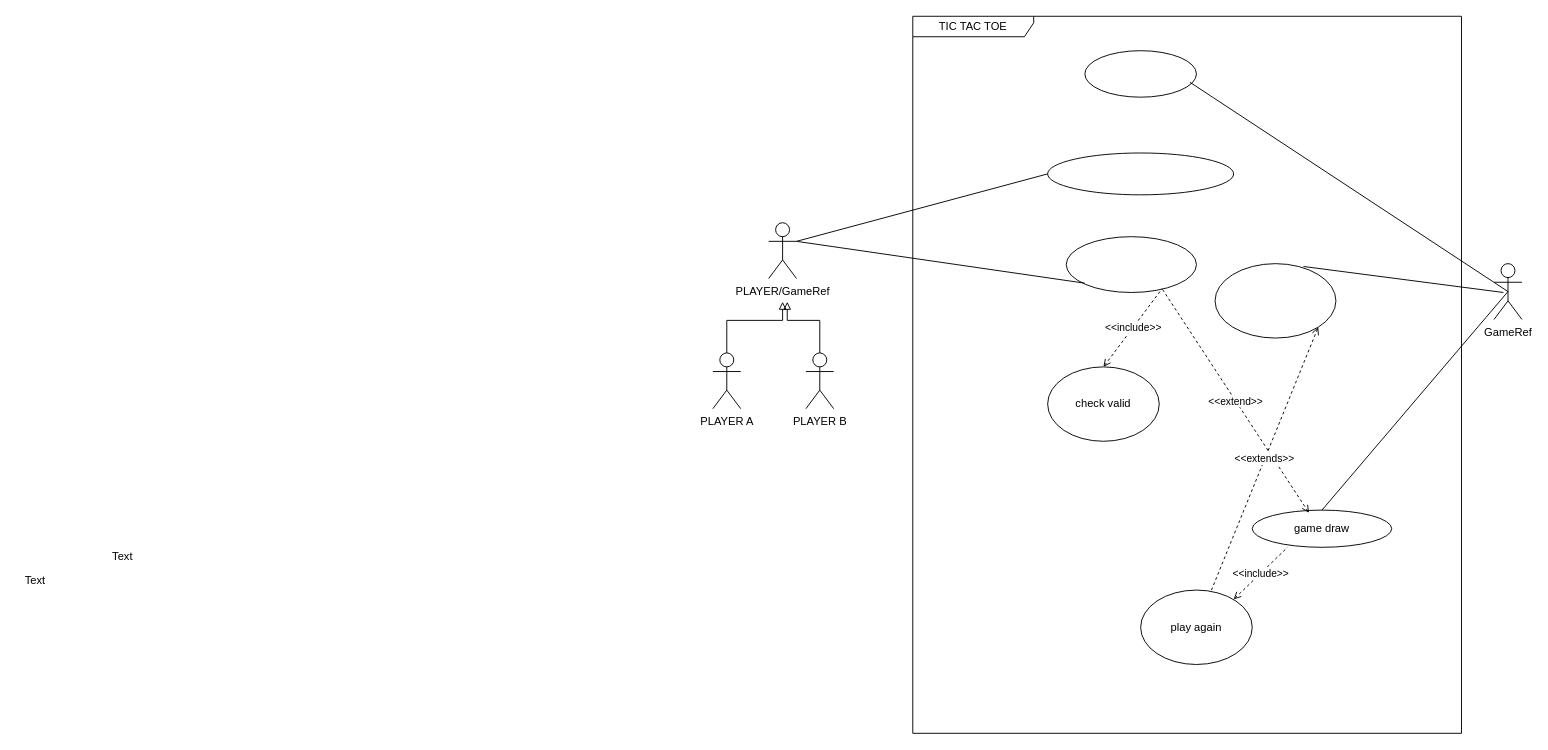
Image size: 1548x750. Some labels were removed from this diagram. Here are the shapes that lost their labels. From the top down, the centre of each, then its label:
(1140,73): display game board
(1140,173): select x or o
(1130,264): input values x or o
(1275,300): check who win
